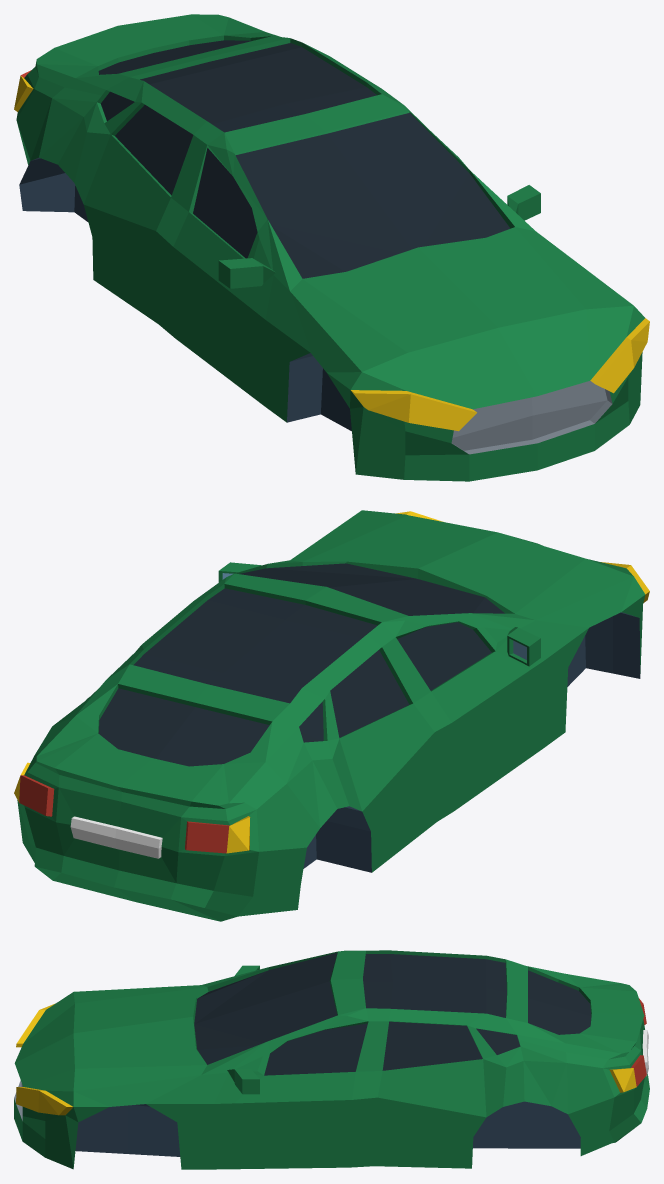
Rendered from Car.fbx.
The picture shows the model from 3 angles, top to bottom: view 1: azimuth 30°, elevation 25°; view 2: azimuth 150°, elevation 25°; view 3: azimuth 270°, elevation 25°; orthographic projection. The views are drawn at different scales.
Parts seen in each view (by area): view 1: CarBody; view 2: CarBody; view 3: CarBody.
Part boxes in pixels (x1,y1,x2,y2): CarBody: (14,14,649,481); CarBody: (14,510,649,921); CarBody: (14,950,649,1169).
Size of the model in its own units: 3.13 by 1.8 by 7.4.
